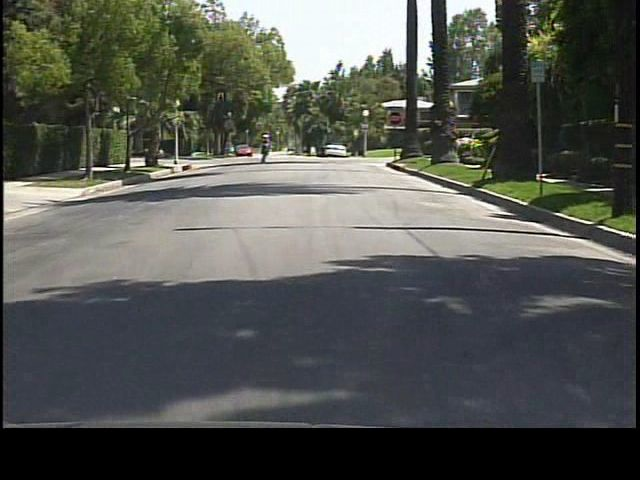person: (257, 134, 272, 166)
